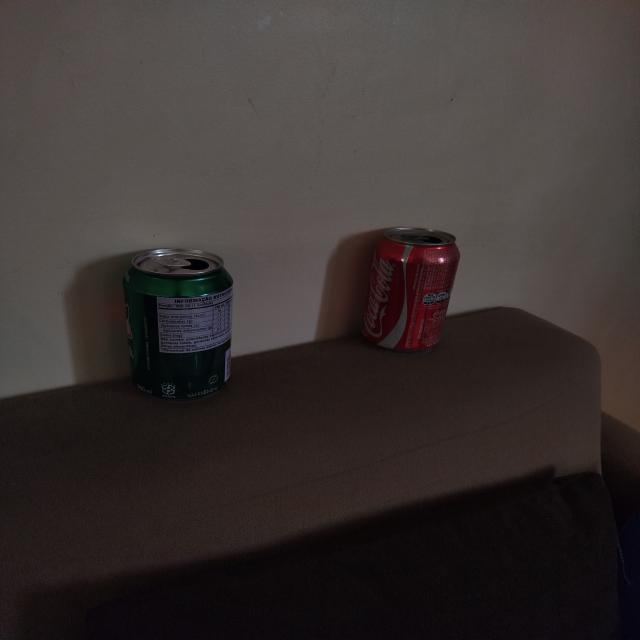Coca Cola: (360, 226, 460, 353)
Guarana: (124, 248, 237, 400)
